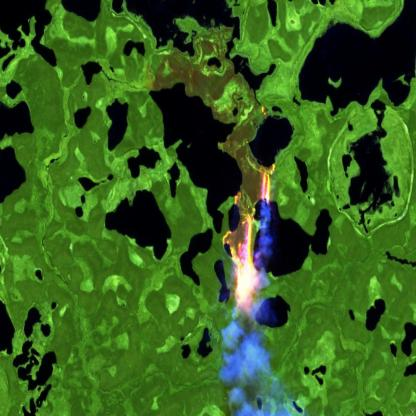fire: (219, 158, 277, 320)
